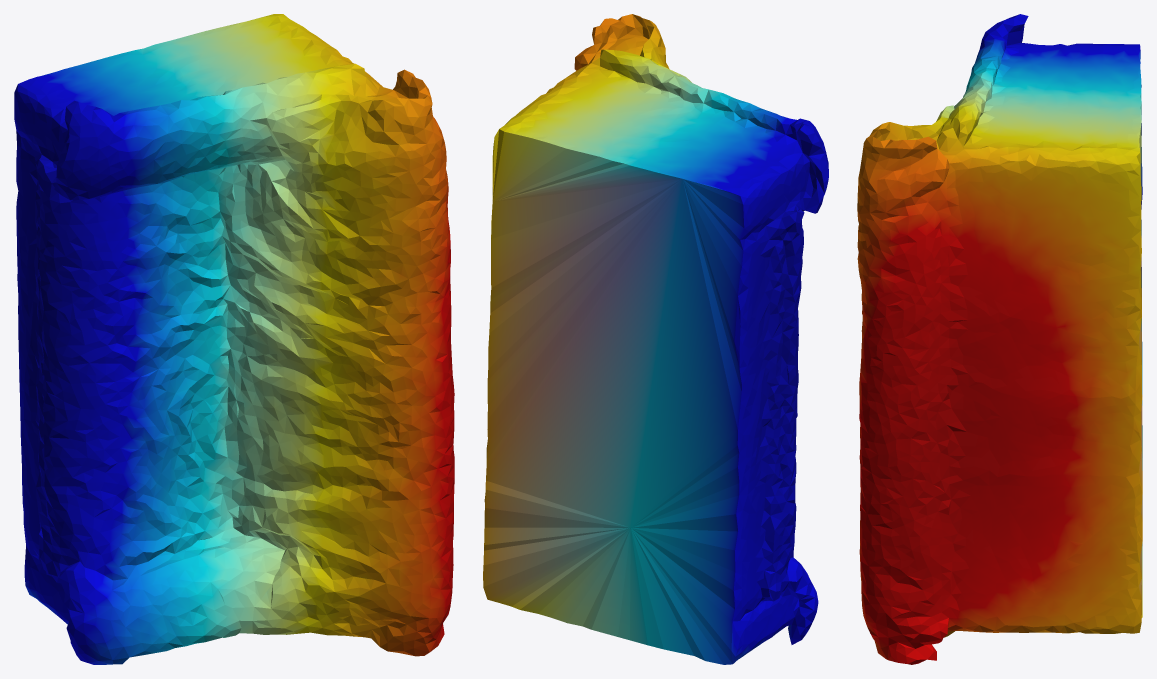
Rendered from sofa_ours_poisson.glb.
3 views of the same model, side by side, from view 1: azimuth 30°, elevation 25°; view 2: azimuth 150°, elevation 25°; view 3: azimuth 270°, elevation 25° (orthographic). The views are drawn at different scales.
Visible parts, largest first — view 1: Sofa.obj; view 2: Sofa.obj; view 3: Sofa.obj.
Boxes of the visible parts, box(x1,y1,x2,y2) form: Sofa.obj: box(14, 14, 454, 664); Sofa.obj: box(483, 14, 828, 664); Sofa.obj: box(857, 14, 1142, 664).
Size of the model in its own units: 0.993 by 1.64 by 0.8105.
